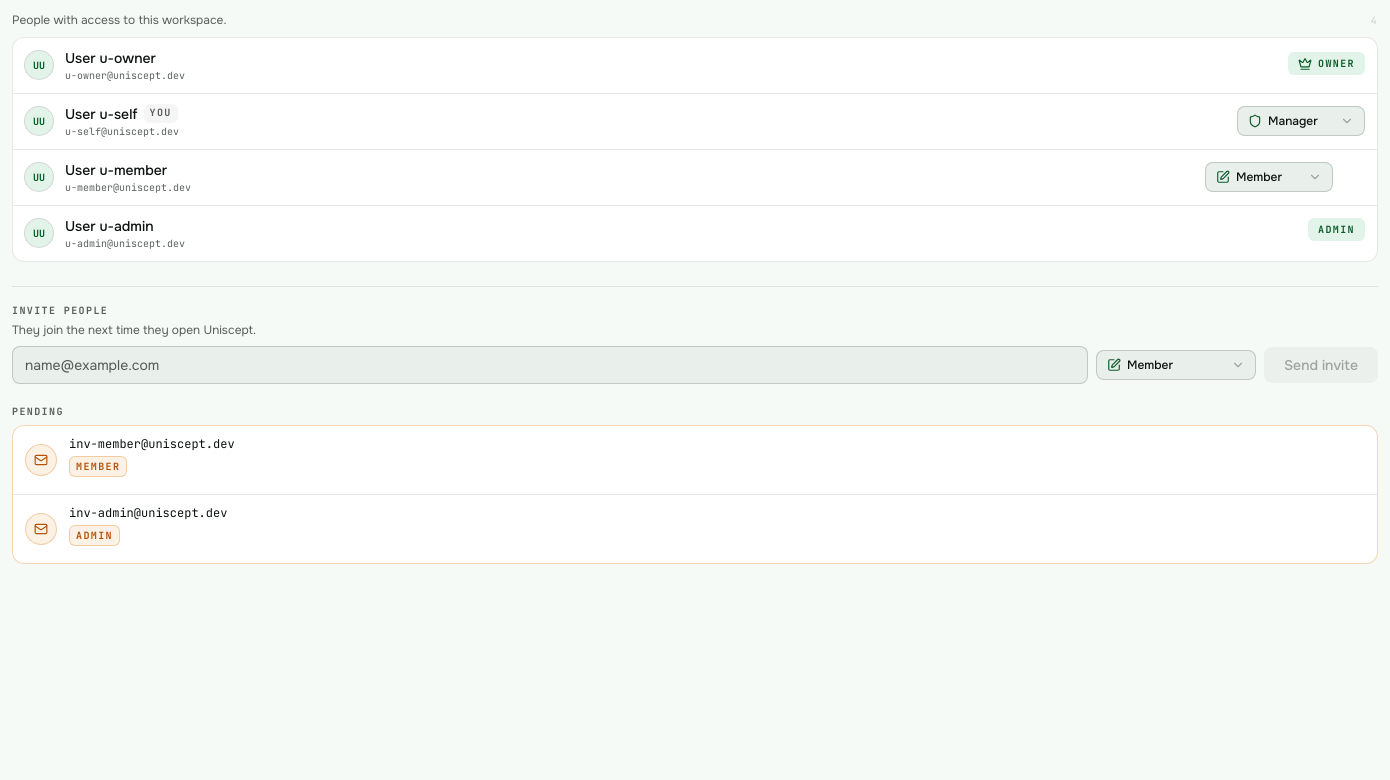
Test: MembersSection › GIVEN a member manager who cannot manage roles › WHEN the current role of a member is picked again › THEN nothing is assigned and the picker closes
The image size is (1390, 780).
Click the button "Member" in the row of "u-member@uniscept.dev": (1269, 177) [1205,162,1333,192]
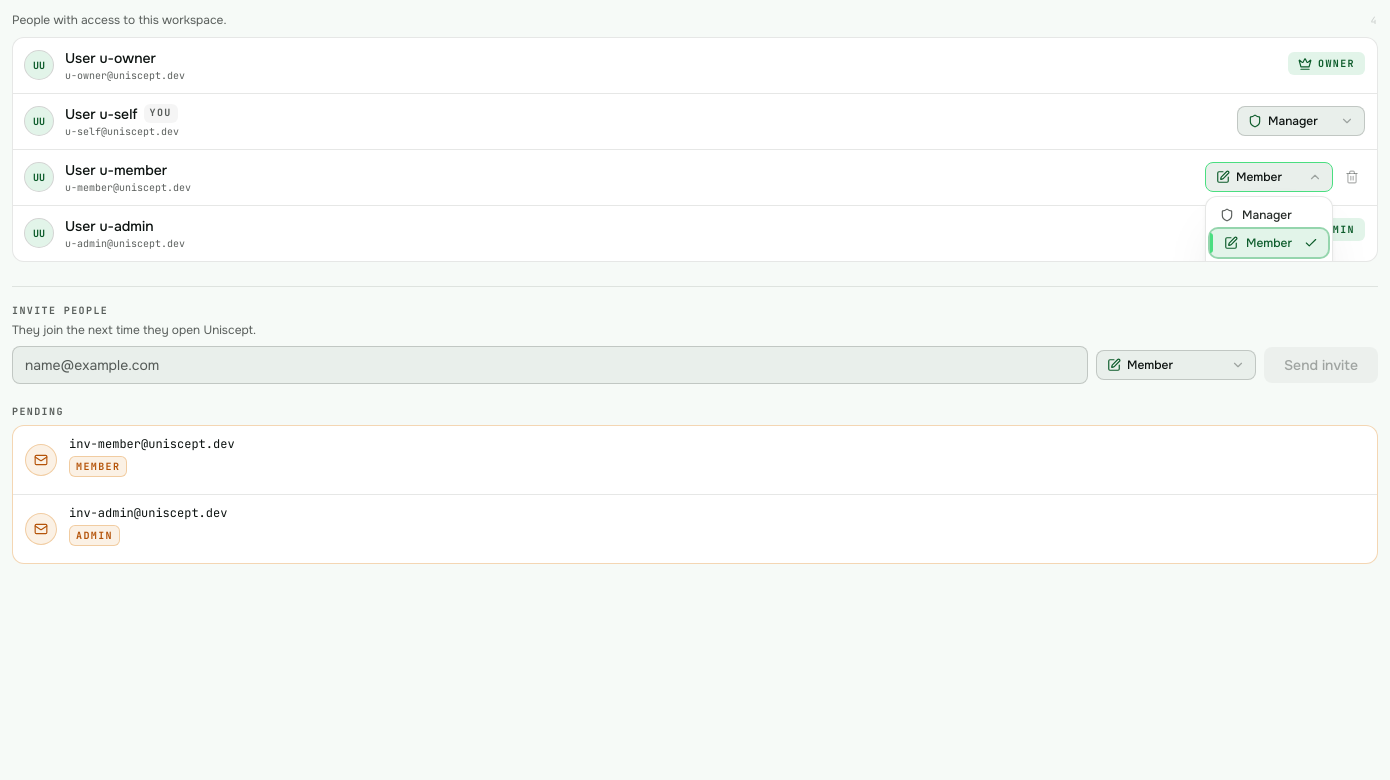
Click the option "Member": (1269, 243) [1210,229,1328,257]
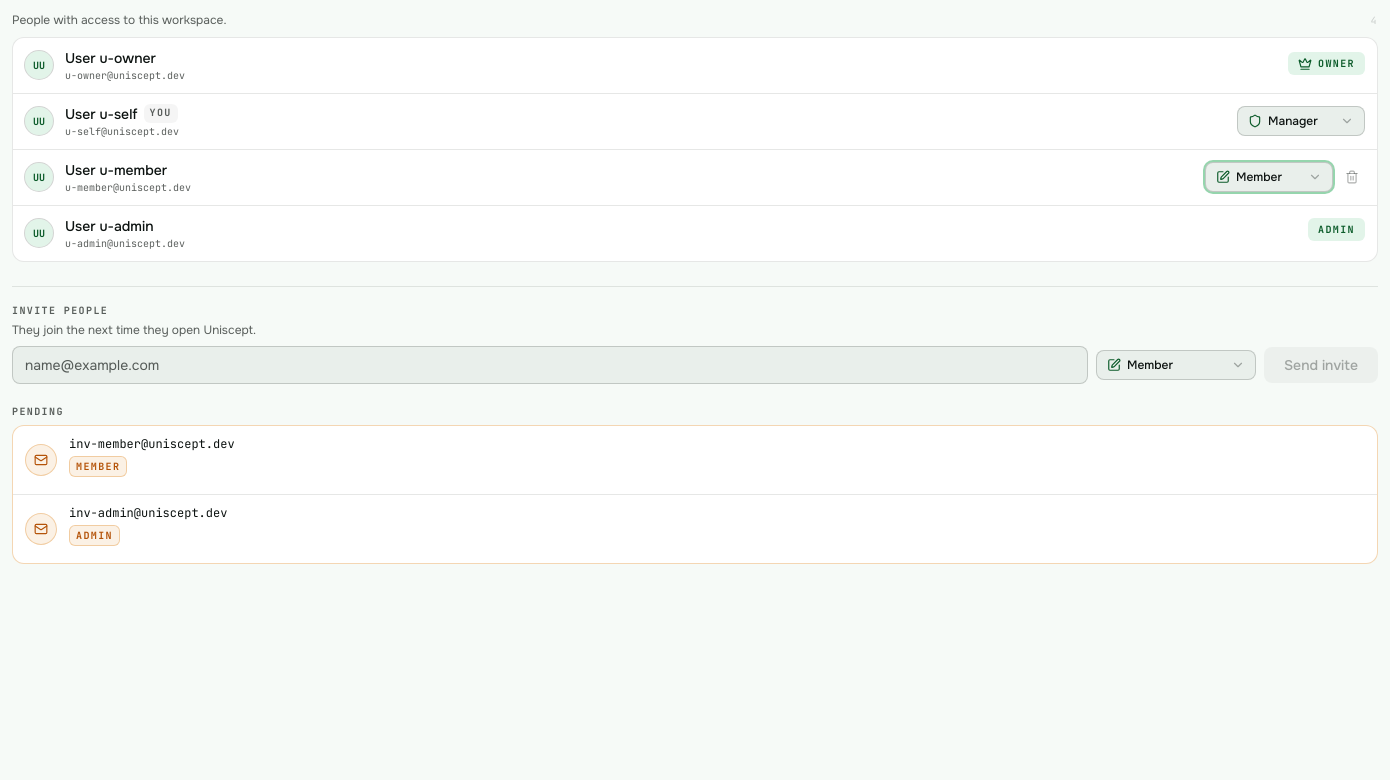
Expected: the list is gone
